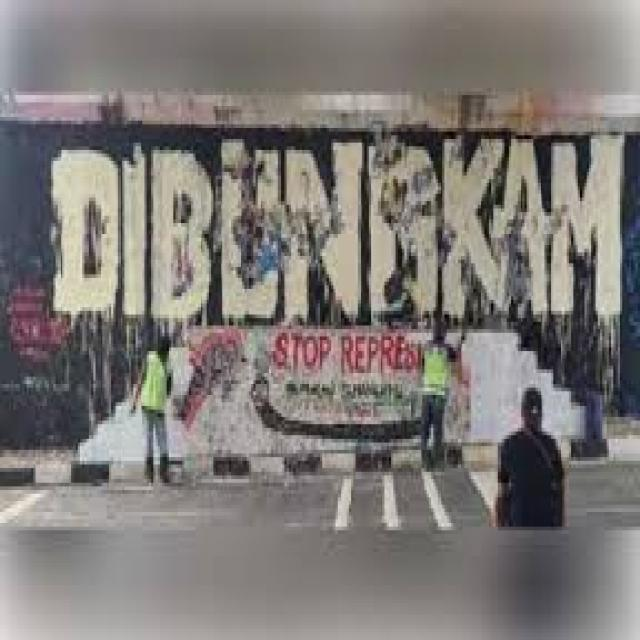-: (48, 138, 626, 321), (180, 329, 471, 426), (2, 282, 67, 368)
